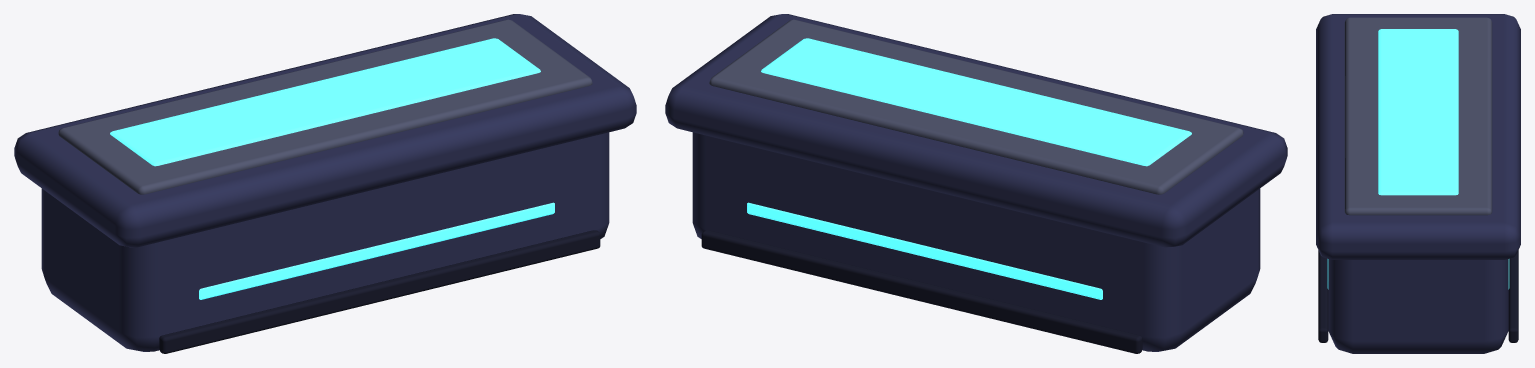
The model's file is int.doorbeam.emit_a.l0.8.glb.
3 views of the same model, side by side, from view 1: azimuth 30°, elevation 25°; view 2: azimuth 150°, elevation 25°; view 3: azimuth 270°, elevation 25° (orthographic). The views are drawn at different scales.
Visible parts, largest first — view 1: int.doorbeam.emit_a.l0.8; view 2: int.doorbeam.emit_a.l0.8; view 3: int.doorbeam.emit_a.l0.8.
Part boxes in pixels (box(x1,y1,x2,y2)): int.doorbeam.emit_a.l0.8: box(14, 14, 636, 353); int.doorbeam.emit_a.l0.8: box(665, 14, 1287, 353); int.doorbeam.emit_a.l0.8: box(1316, 14, 1520, 353).
Size of the model in its own units: 0.64 by 0.201 by 0.25.
